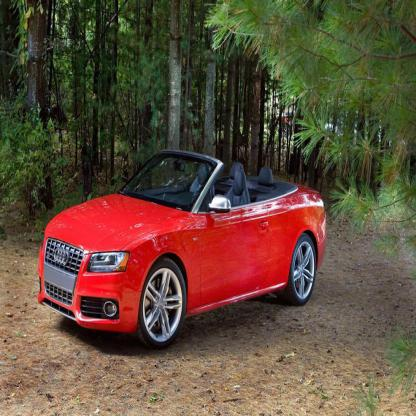car: (36, 148, 327, 352)
